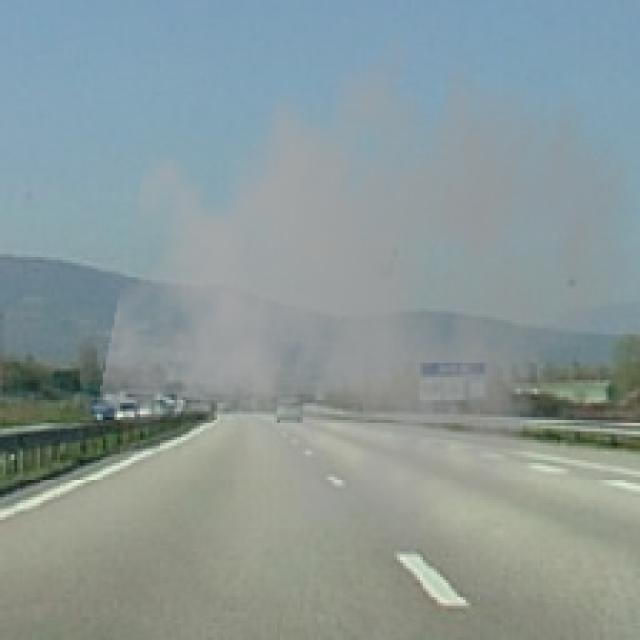smoke: (94, 6, 637, 566)
